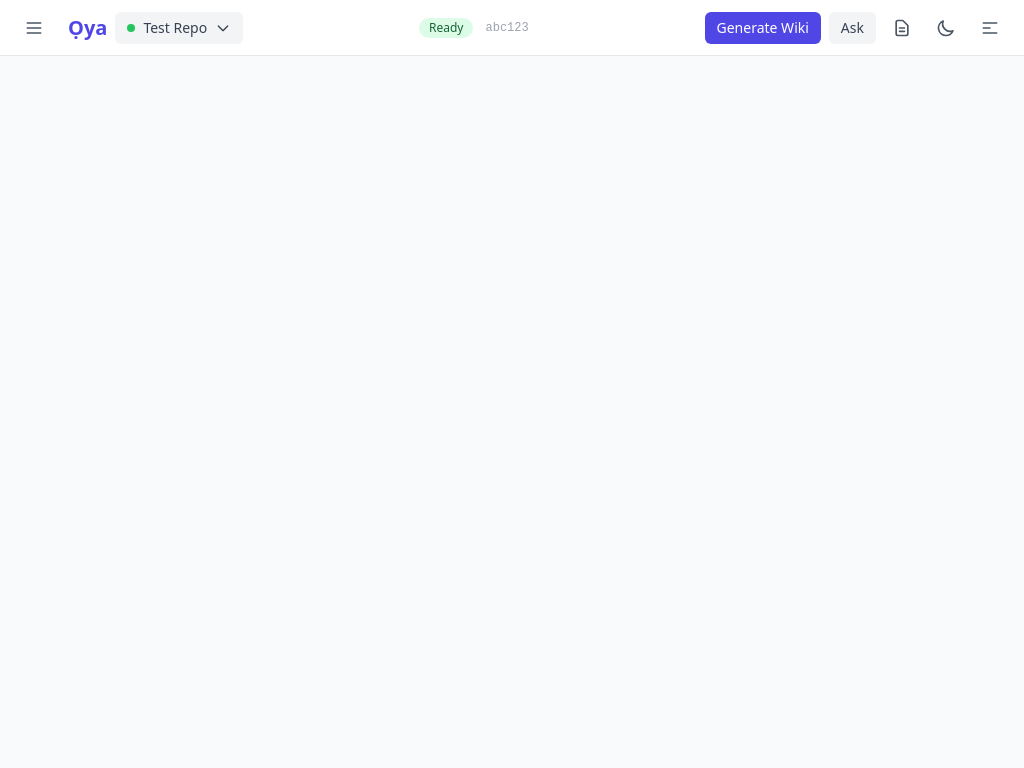
Test: Log Viewer Button › opens LogViewerModal when log button is clicked
The width and height of the screenshot is (1024, 768).
Click the button named "view logs" at (902, 28), box [884,10,920,46]
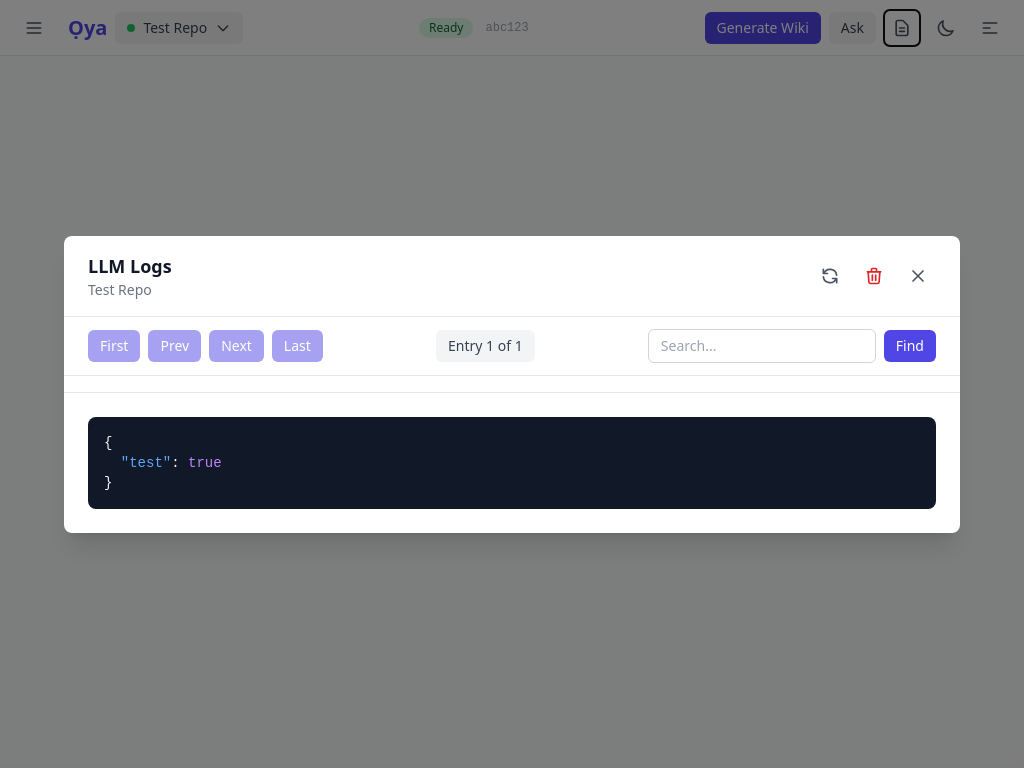
expect the heading "LLM Logs" is shown: met, box [88,252,172,280]
